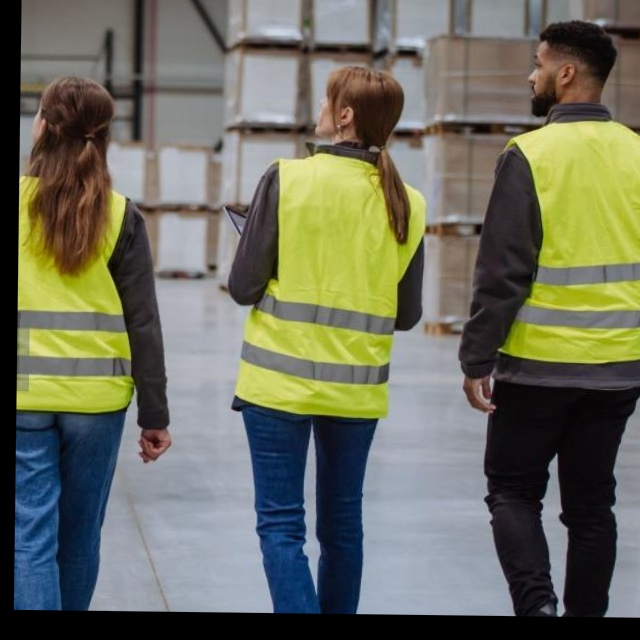Con_Chaleco: (227, 153, 428, 416), (482, 116, 640, 367), (17, 169, 133, 417)
Sin_Casco_Mascarrilla: (531, 18, 619, 112), (311, 64, 406, 142)
